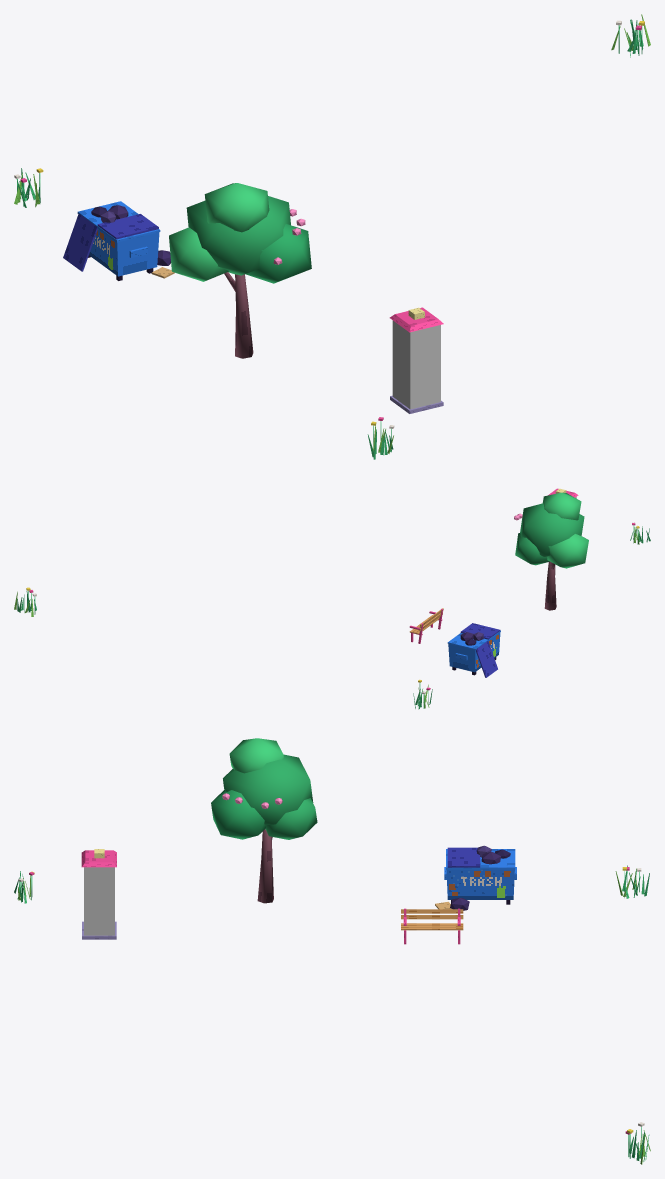
The model's file is Junction Dressing.fbx.
The picture shows the model from 3 angles, top to bottom: view 1: azimuth 30°, elevation 25°; view 2: azimuth 150°, elevation 25°; view 3: azimuth 270°, elevation 25°; orthographic projection. The views are drawn at different scales.
Visible parts, largest first — view 1: Junction Dressing mesh; view 2: Junction Dressing mesh; view 3: Junction Dressing mesh.
Boxes of the visible parts, <box> form: Junction Dressing mesh: <box>14,14,650,459</box>; Junction Dressing mesh: <box>14,488,650,709</box>; Junction Dressing mesh: <box>14,738,650,1164</box>.
Bounding box in the file's own units: 20.07 × 5.01 × 18.38.
